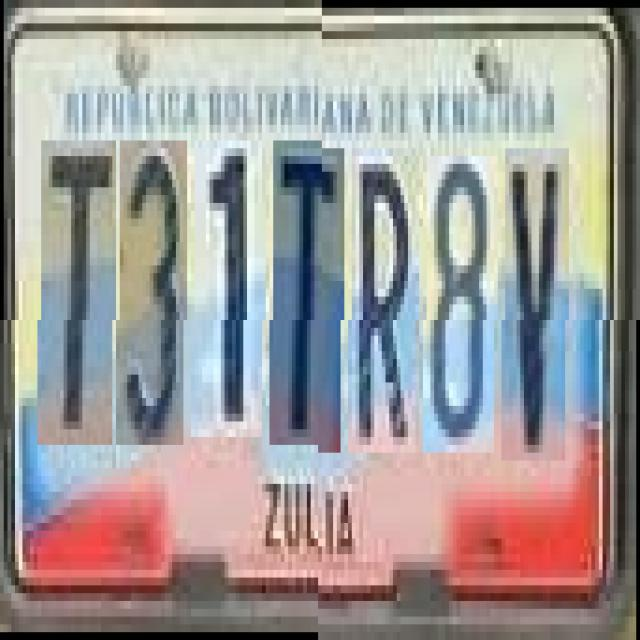1: (194, 148, 266, 444)
3: (120, 148, 188, 453)
8: (427, 156, 498, 453)
R: (352, 148, 419, 453)
T: (41, 148, 116, 453), (274, 148, 344, 453)
V: (506, 148, 568, 460)
